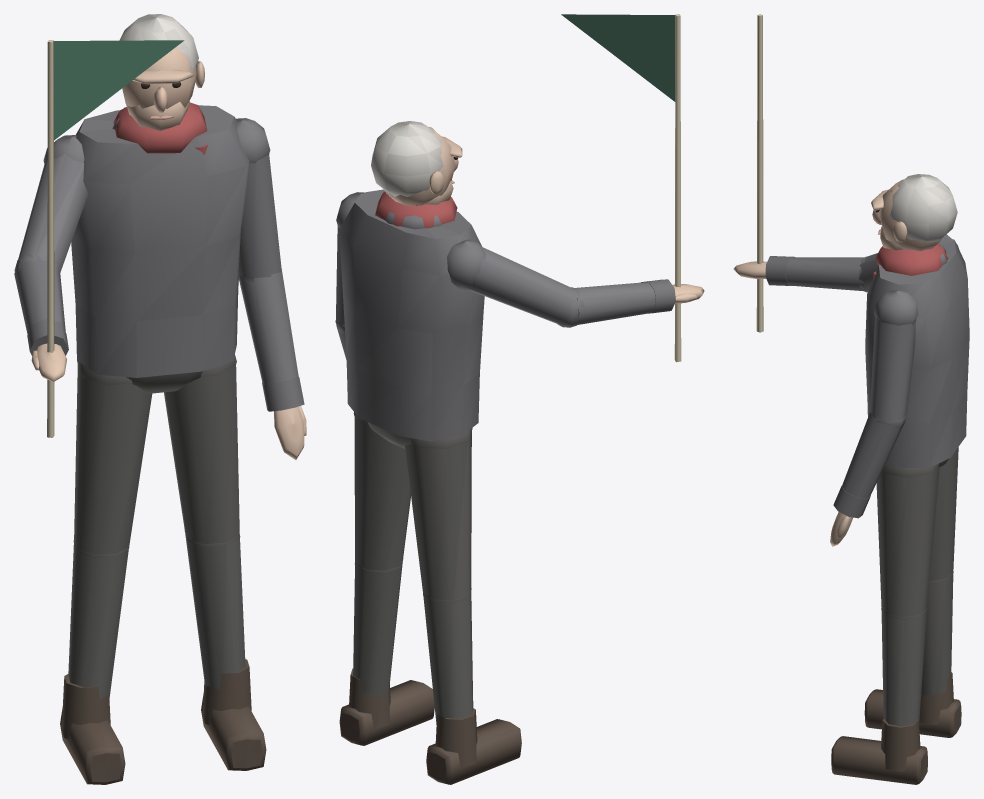
File: crowd_child_a.glb
The picture shows the model from 3 angles, left to right: view 1: azimuth 30°, elevation 25°; view 2: azimuth 150°, elevation 25°; view 3: azimuth 270°, elevation 25°; orthographic projection. The views are drawn at different scales.
Parts seen in each view (by area): view 1: body; view 2: body; view 3: body.
Part boxes in pixels (box(x1,y1,x2,y2)): body: box(14, 14, 306, 784); body: box(335, 14, 704, 784); body: box(733, 14, 969, 784).
Size of the model in its own units: 0.5385 by 1.29 by 0.4203.
